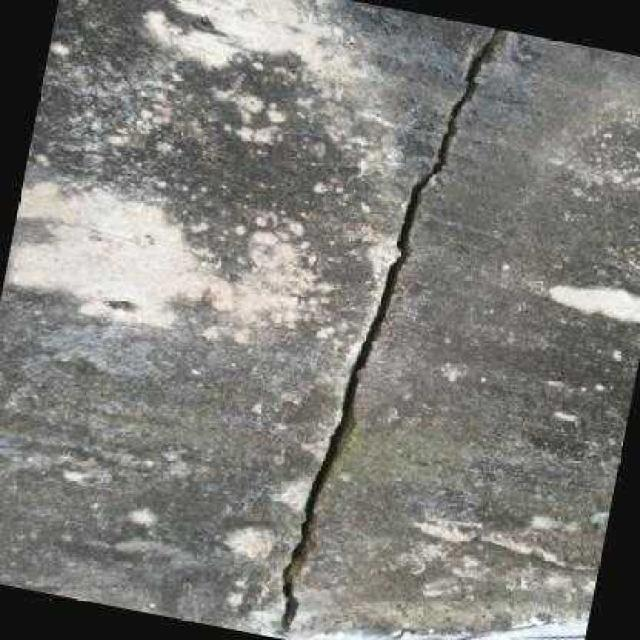D00: (272, 28, 505, 632)
